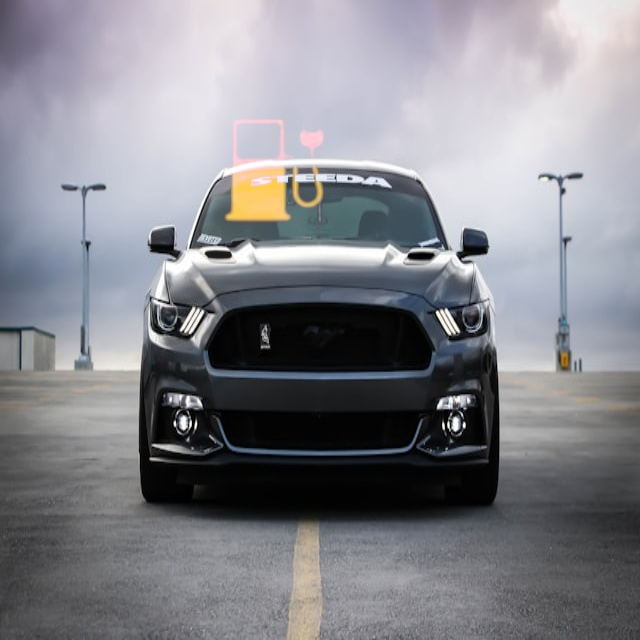symbol: (173, 68, 379, 274)
